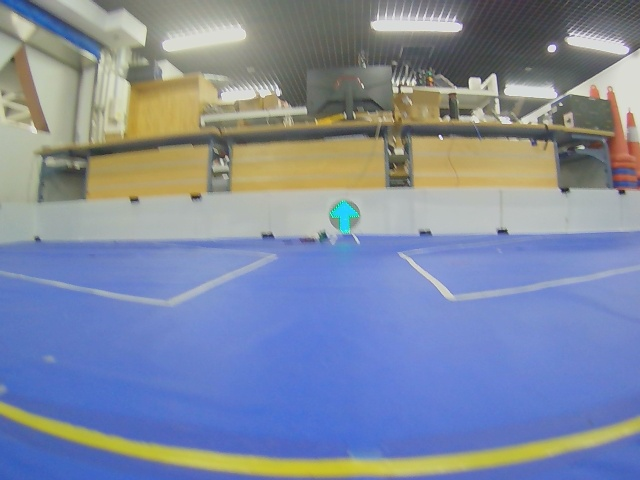straight_green: (329, 200, 361, 234)
